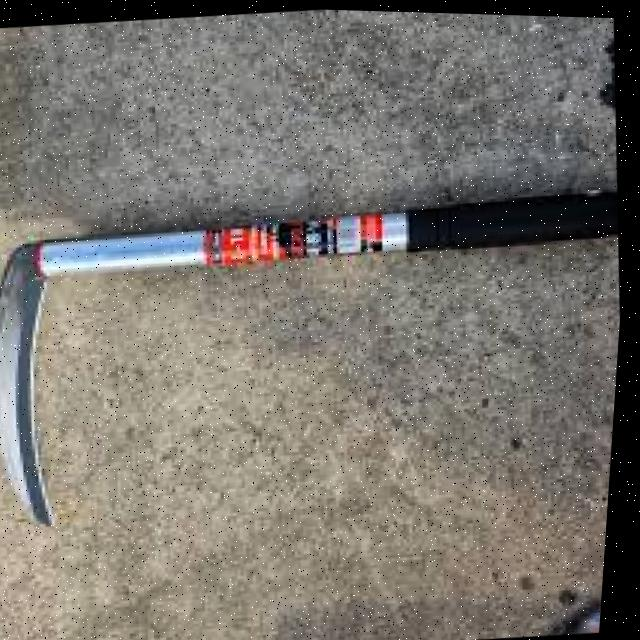sickle: (0, 121, 634, 588)
